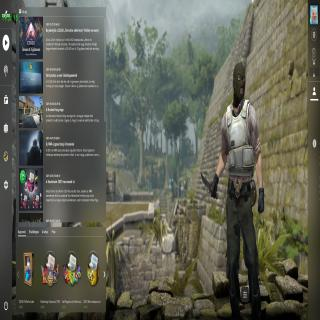T-Body: (216, 61, 264, 320)
T-Head: (232, 61, 246, 107)
